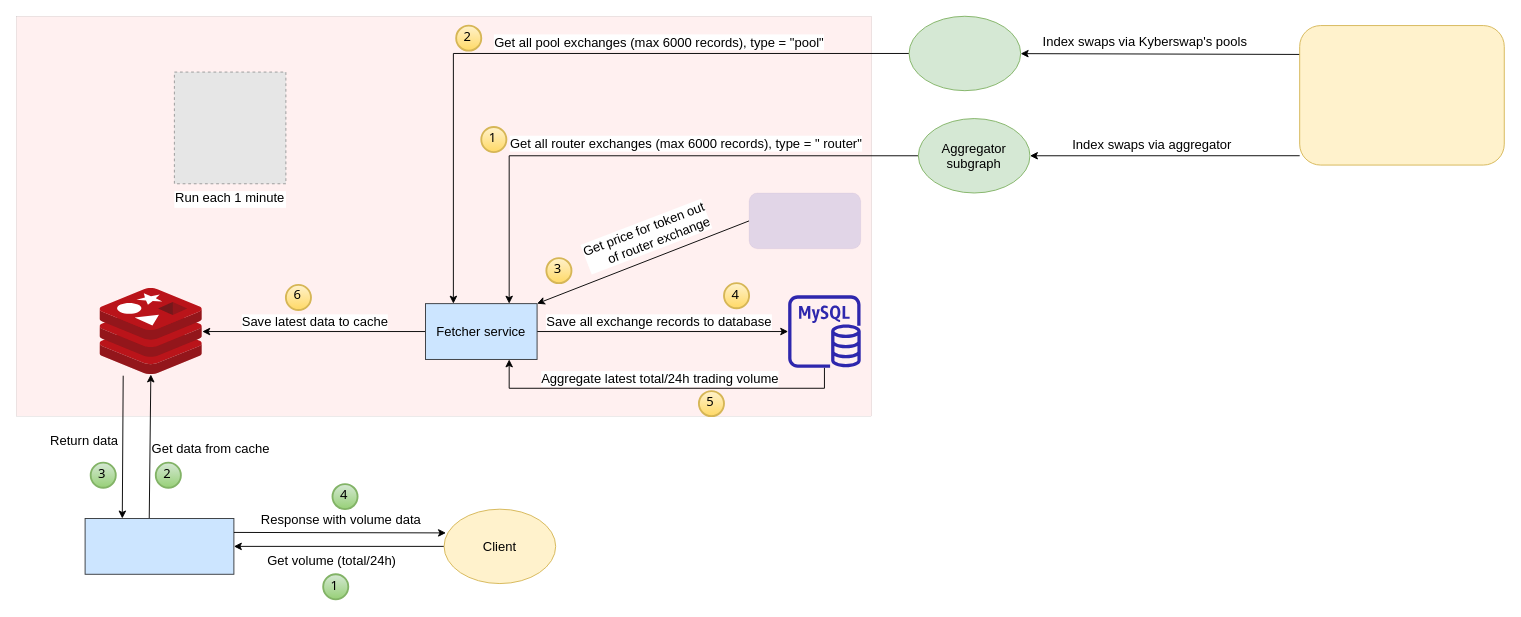
Image size: 1521x617. Some labels were removed from this diagram. Grey dashed boxes stand in for pictures. The centre of each missing label's shape, as x and y in pixels:
"Aggregator Price API" belongs at [804,220].
"API service" belongs at [159,546].
"Exchange subgraph" belongs at [964,53].
"RPC Node (Ethereum, BSC, Polygon, ...)" belongs at [1401,95].
